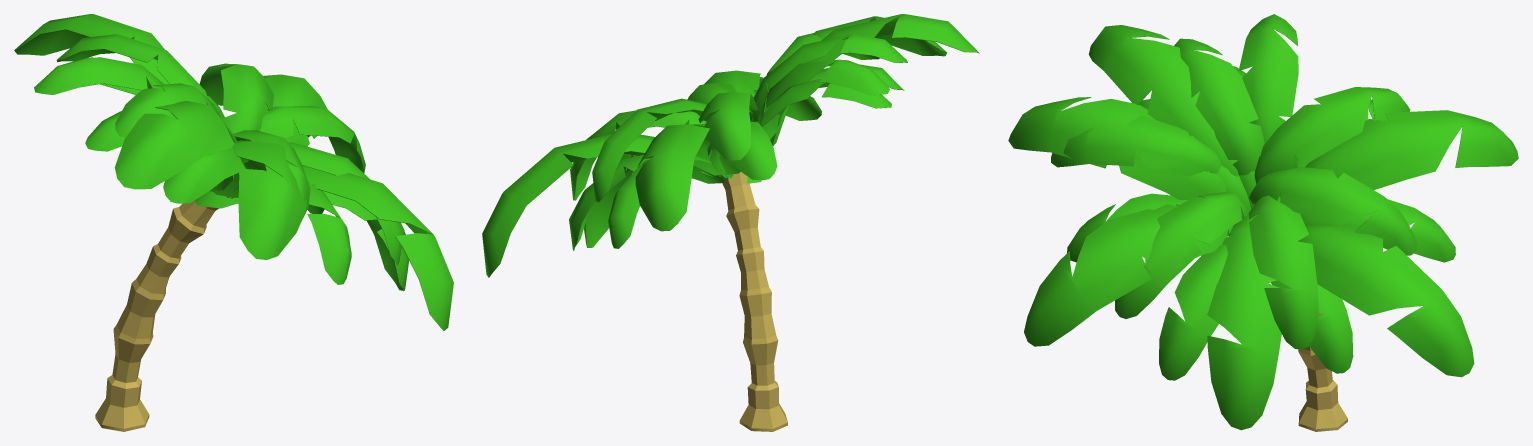
The model's file is coconut tree1.FBX.
3 views of the same model, side by side, from view 1: azimuth 30°, elevation 25°; view 2: azimuth 150°, elevation 25°; view 3: azimuth 270°, elevation 25° (orthographic). The views are drawn at different scales.
Parts seen in each view (by area): view 1: Cylinder002, Plane022, Plane028, Plane027, Plane038, Plane024, Plane036, Plane039, Plane037, Plane034, Plane035, Plane042 (+6 smaller); view 2: Cylinder002, Plane024, Plane025, Plane022, Plane036, Plane038, Plane037, Plane042, Plane031, Plane030, Plane029, Plane039 (+7 smaller); view 3: Plane025, Plane026, Plane027, Plane024, Plane022, Plane039, Plane028, Plane038, Plane037, Plane041, Plane040, Plane042 (+7 smaller).
Boxes of the visible parts, bbox=[...] form: Cylinder002: bbox=[95, 200, 218, 431]; Plane022: bbox=[114, 101, 243, 190]; Plane028: bbox=[211, 140, 308, 259]; Plane027: bbox=[231, 165, 453, 330]; Plane038: bbox=[199, 63, 273, 133]; Plane024: bbox=[14, 14, 169, 84]; Plane036: bbox=[34, 57, 164, 94]; Plane039: bbox=[260, 106, 365, 173]; Plane037: bbox=[56, 34, 208, 99]; Plane034: bbox=[226, 183, 351, 284]; Plane035: bbox=[163, 148, 246, 203]; Plane042: bbox=[115, 83, 220, 137]; Cylinder002: bbox=[722, 172, 787, 431]; Plane024: bbox=[635, 124, 740, 231]; Plane025: bbox=[482, 134, 654, 277]; Plane022: bbox=[770, 14, 979, 144]; Plane036: bbox=[758, 59, 889, 139]; Plane038: bbox=[592, 98, 715, 202]; Plane037: bbox=[698, 91, 757, 160]; Plane042: bbox=[750, 34, 907, 121]; Plane031: bbox=[608, 156, 728, 248]; Plane030: bbox=[707, 121, 777, 180]; Plane029: bbox=[755, 79, 891, 126]; Plane039: bbox=[570, 110, 706, 200]; Plane025: bbox=[1298, 225, 1474, 377]; Plane026: bbox=[1207, 213, 1281, 430]; Plane027: bbox=[1024, 204, 1233, 346]; Plane024: bbox=[1305, 110, 1518, 189]; Plane022: bbox=[1088, 25, 1238, 176]; Plane039: bbox=[1249, 195, 1318, 349]; Plane028: bbox=[1008, 97, 1225, 199]; Plane038: bbox=[1249, 167, 1417, 255]; Plane037: bbox=[1254, 87, 1410, 183]; Plane041: bbox=[1051, 116, 1221, 176]; Plane040: bbox=[1115, 192, 1247, 318]; Plane042: bbox=[1174, 38, 1264, 175].
Size of the model in its own units: 123 by 127 by 159.
